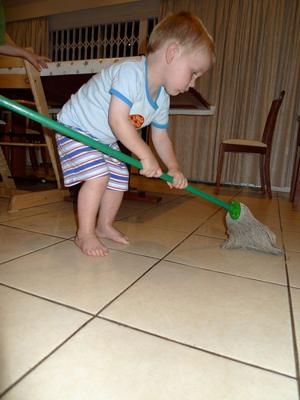person: (54, 10, 217, 258)
